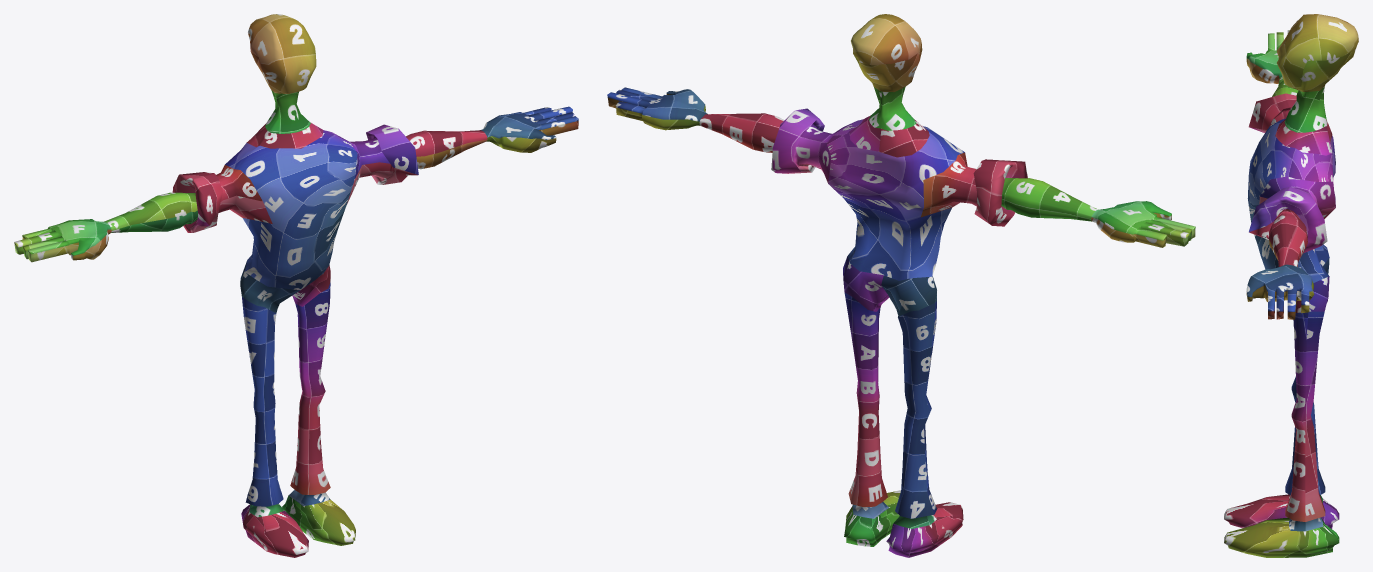
File: Enemy_low.fbx
3 views of the same model, side by side, from view 1: azimuth 30°, elevation 25°; view 2: azimuth 150°, elevation 25°; view 3: azimuth 270°, elevation 25° (orthographic). The views are drawn at different scales.
Parts seen in each view (by area): view 1: Mafiosa_low; view 2: Mafiosa_low; view 3: Mafiosa_low.
Boxes of the visible parts, <box> form: Mafiosa_low: <box>14,14,578,557</box>; Mafiosa_low: <box>607,14,1195,557</box>; Mafiosa_low: <box>1224,14,1358,557</box>.
Size of the model in its own units: 10.61 by 9.23 by 2.16.
1 material, 1 textured.
